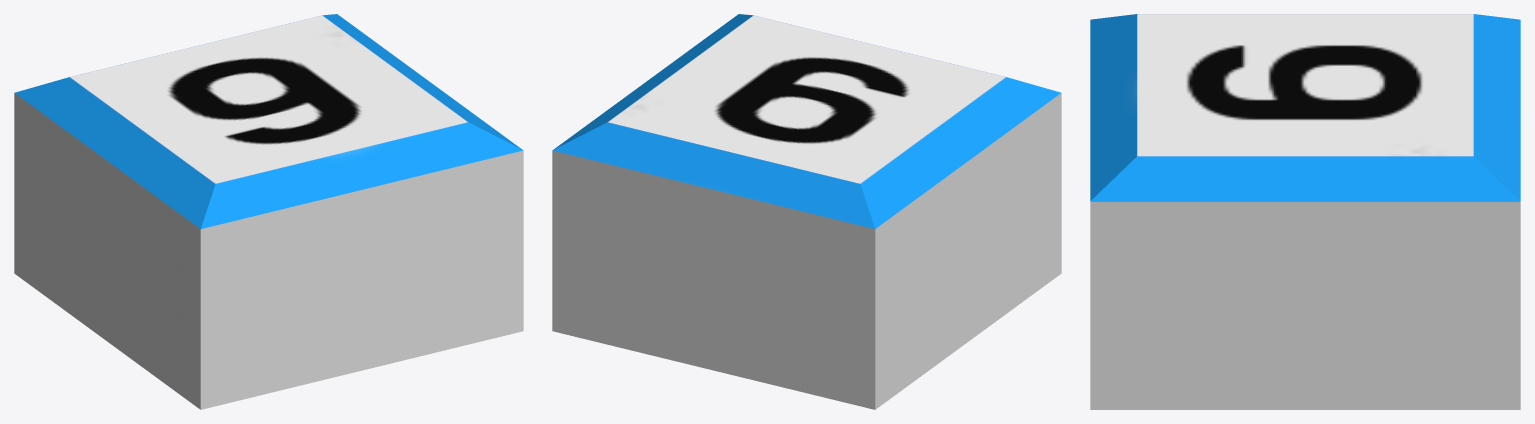
The picture shows the model from 3 angles, left to right: view 1: azimuth 30°, elevation 25°; view 2: azimuth 150°, elevation 25°; view 3: azimuth 270°, elevation 25°; orthographic projection. The views are drawn at different scales.
Parts seen in each view (by area): view 1: button.002; view 2: button.002; view 3: button.002.
Boxes of the visible parts, x1=… form: button.002: x1=14, y1=14, x2=523, y2=409; button.002: x1=552, y1=14, x2=1061, y2=409; button.002: x1=1090, y1=14, x2=1520, y2=409.
Size of the model in its own units: 20 by 12 by 20.
